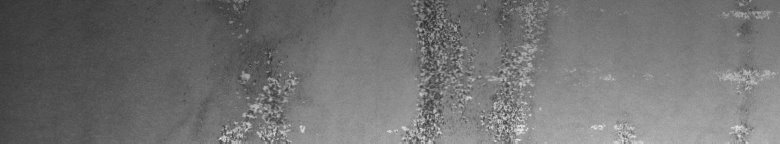hc: (387, 4, 533, 136)
